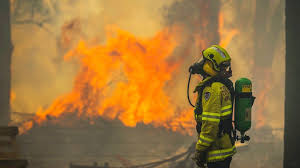emergent: (185, 46, 235, 168)
